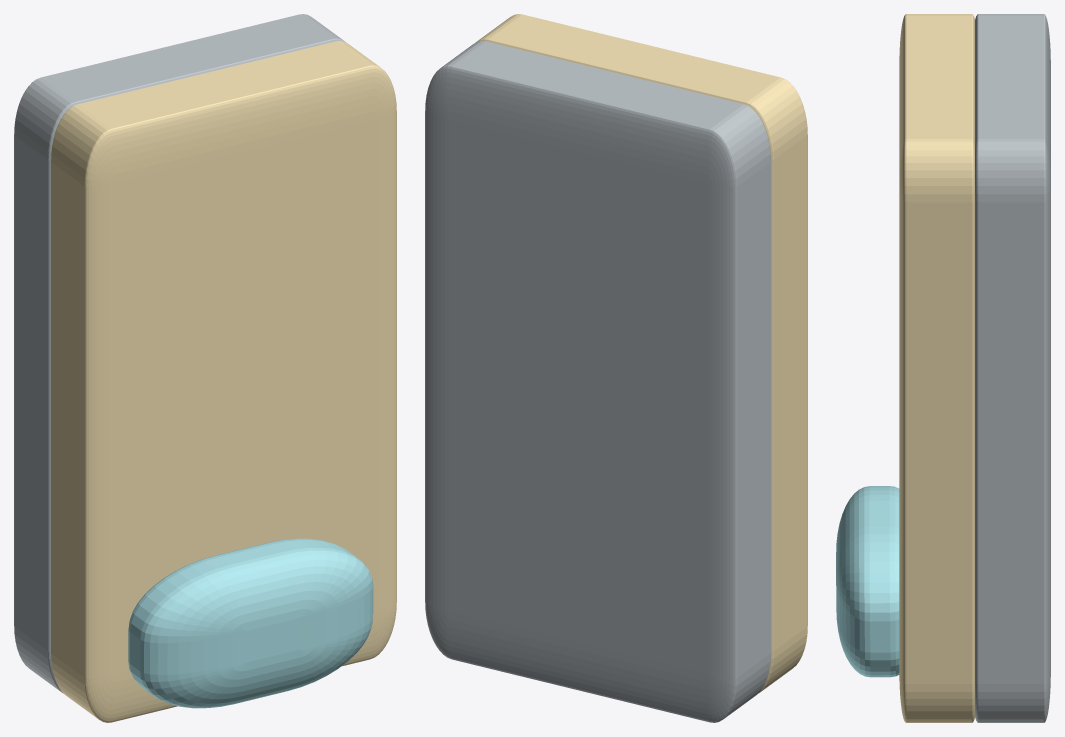
The model's file is comfy bed 6.obj.
3 renders of one model, left to right at view 1: azimuth 30°, elevation 25°; view 2: azimuth 150°, elevation 25°; view 3: azimuth 270°, elevation 25°, orthographic.
Visible parts, largest first — view 1: group_0_16311991, group_0_11593967, group_0_12568524; view 2: group_0_12568524, group_0_16311991; view 3: group_0_12568524, group_0_16311991, group_0_11593967.
Boxes of the visible parts, x1,y1,x2,y2 form: group_0_16311991: [51, 41, 396, 722]; group_0_11593967: [128, 538, 373, 708]; group_0_12568524: [14, 14, 346, 693]; group_0_12568524: [425, 41, 770, 722]; group_0_16311991: [475, 14, 807, 693]; group_0_12568524: [975, 14, 1050, 722]; group_0_16311991: [899, 14, 974, 722]; group_0_11593967: [836, 486, 899, 677].
Bounding box in the file's own units: 345 × 627 × 210.
